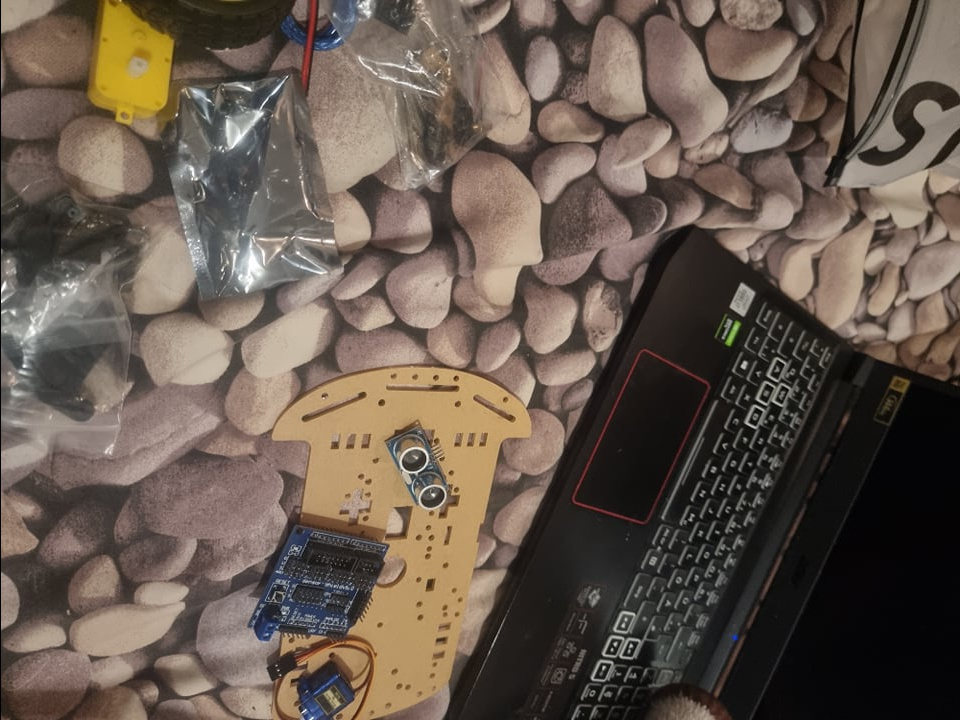5V EXPANSION: (242, 523, 390, 650)
SENSOR: (384, 420, 451, 519)
